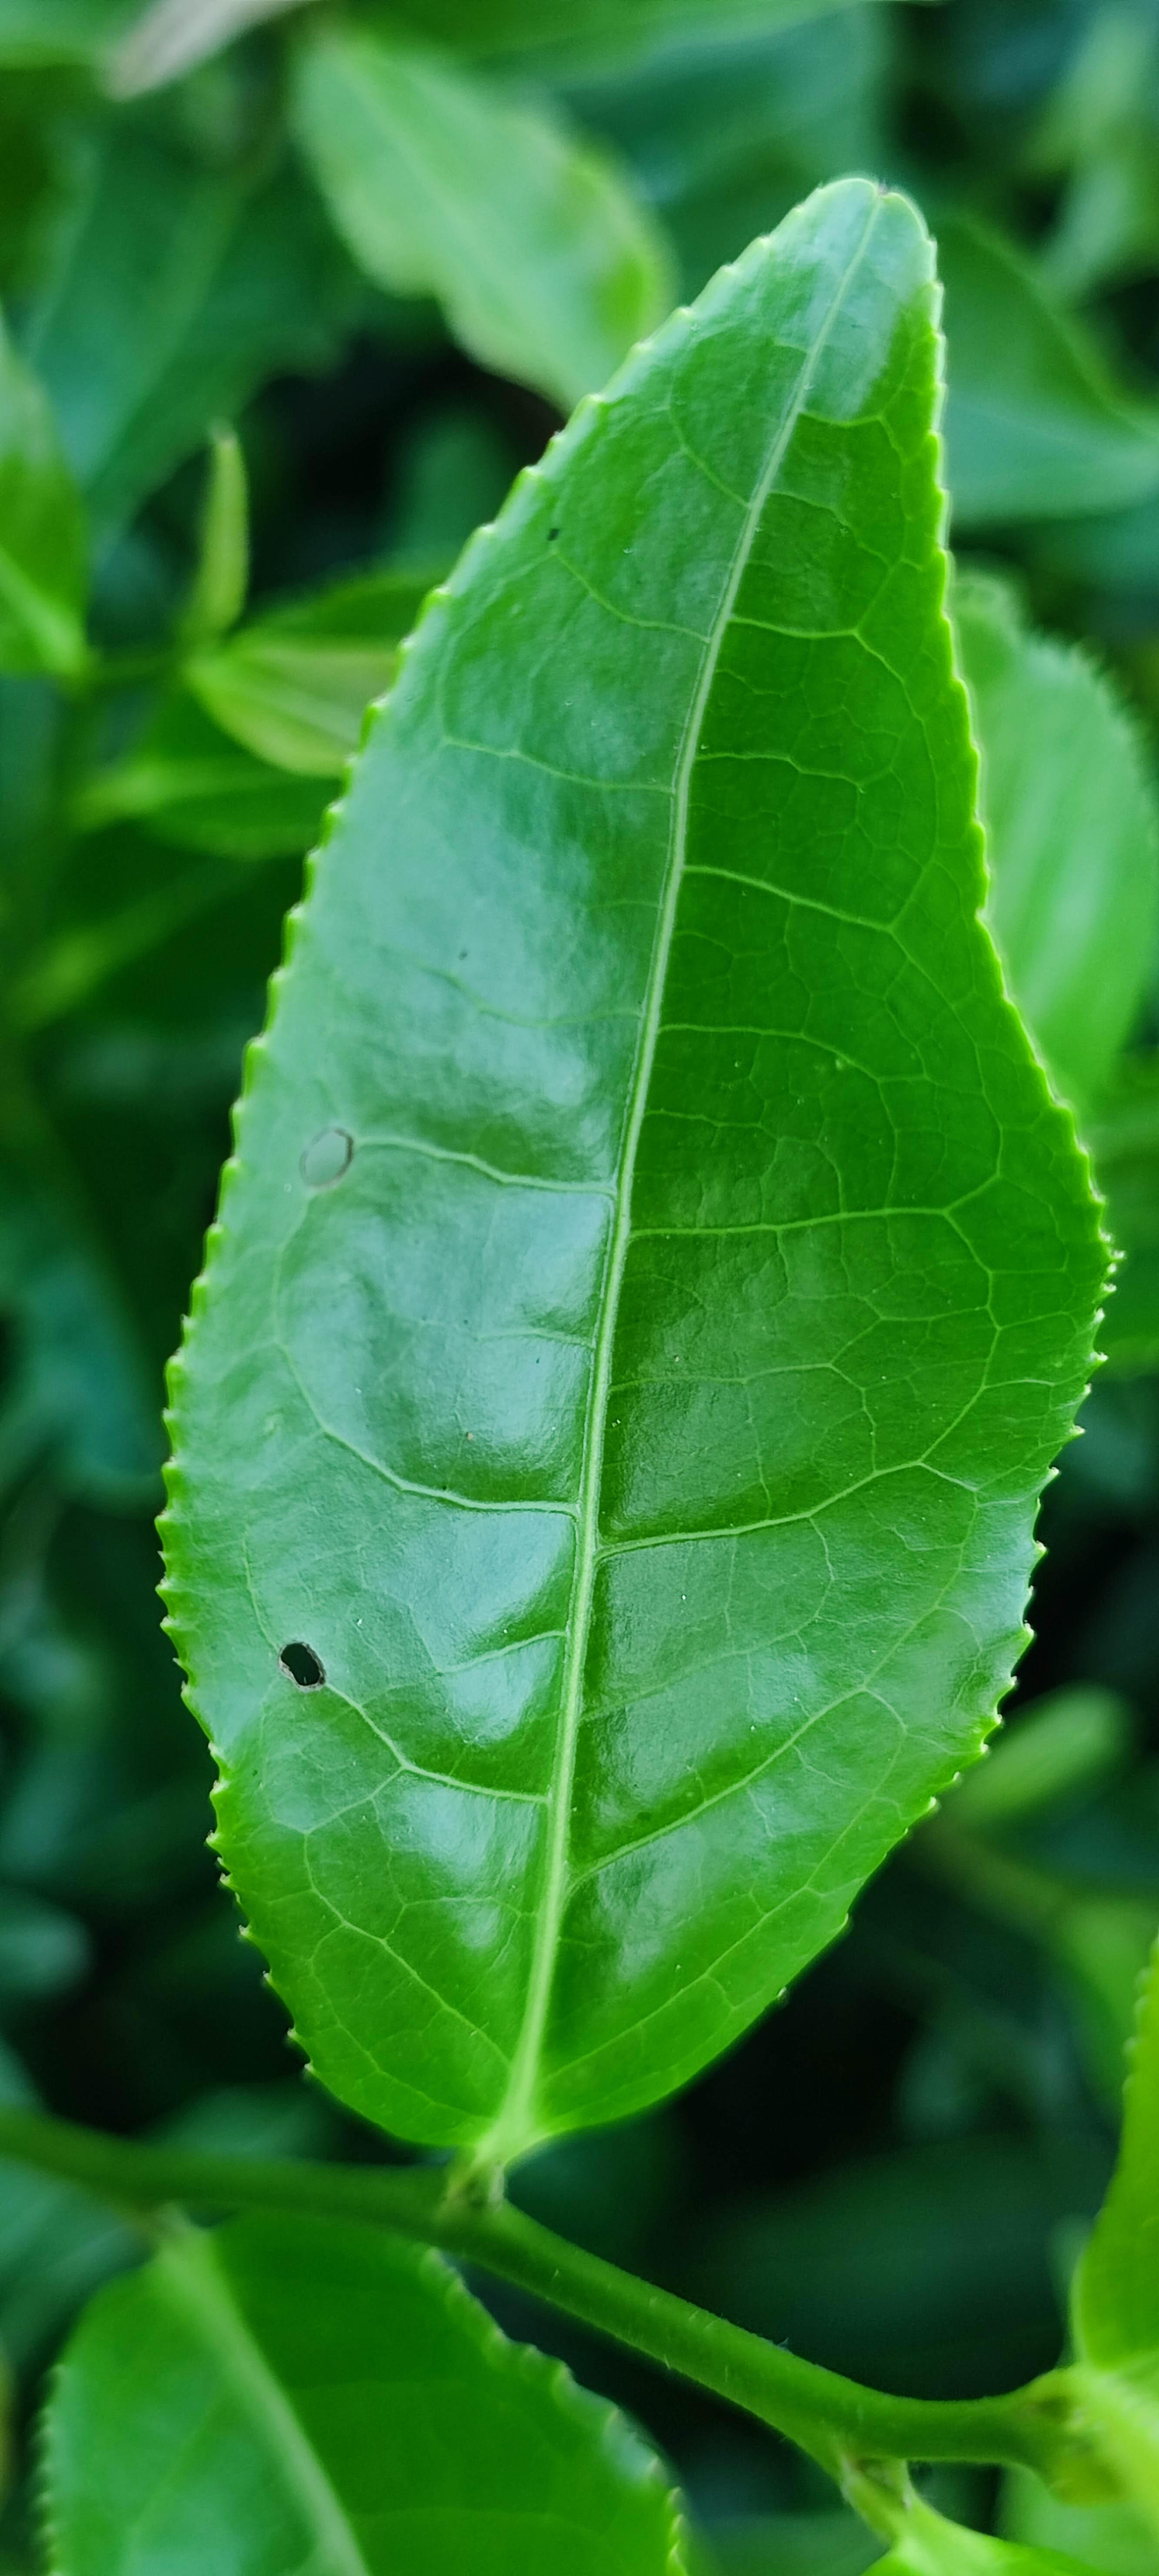chihuo_low: (141, 168, 1129, 2165)
healthy: (33, 2219, 699, 2563)
